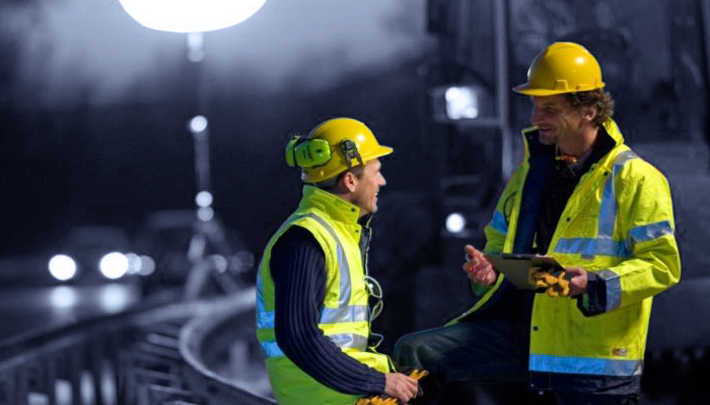epi: (457, 38, 684, 401), (254, 117, 428, 405)
